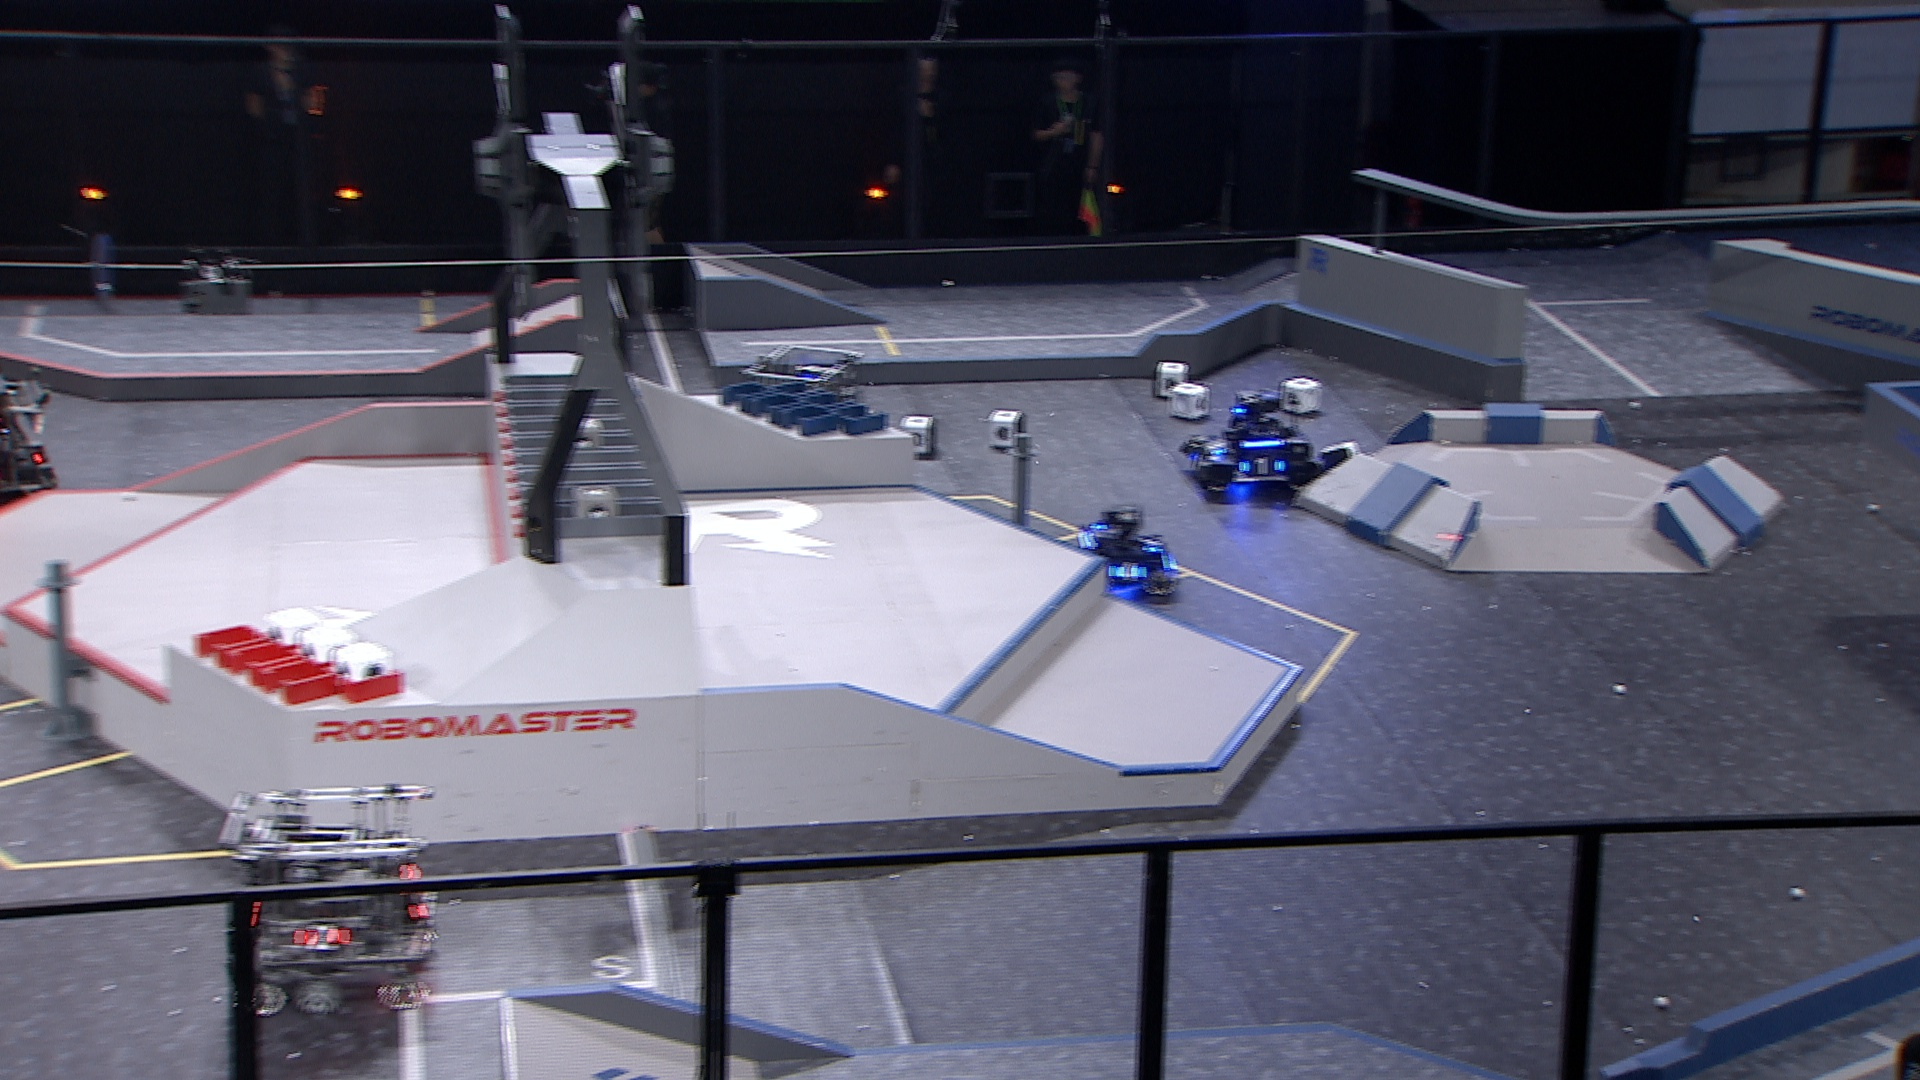armor: (291, 924, 344, 951), (1240, 458, 1287, 476), (410, 887, 433, 920), (1203, 436, 1232, 458), (1112, 564, 1141, 582), (1139, 527, 1159, 550), (1183, 448, 1201, 471)
car: (218, 779, 447, 1019), (1172, 389, 1329, 512), (737, 342, 868, 458), (1073, 501, 1183, 603)
